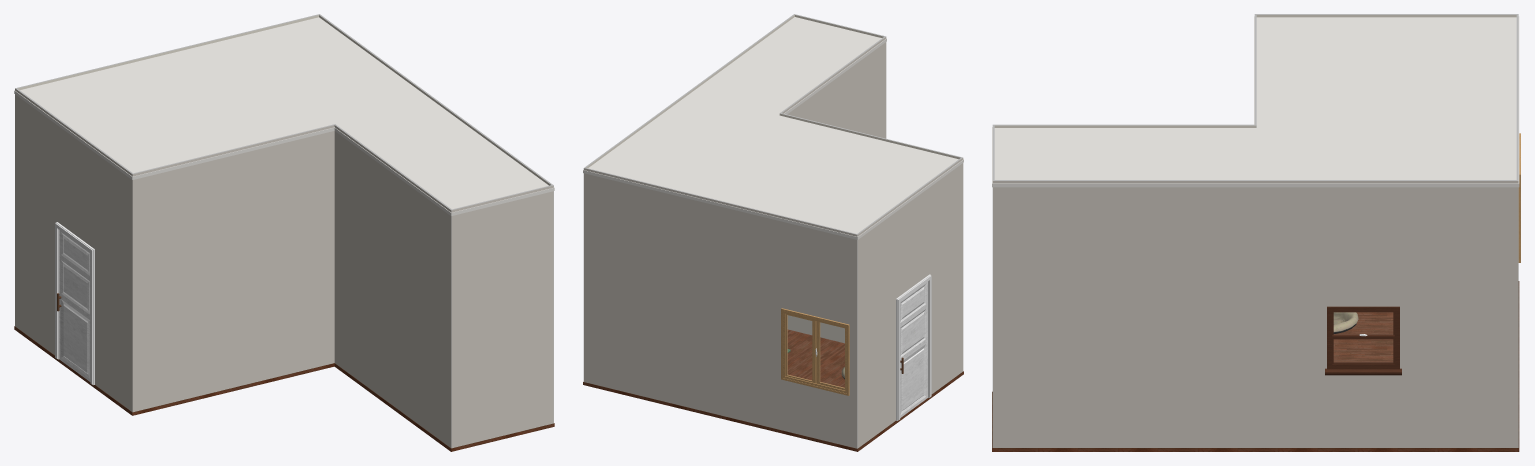
Rendered from ProcTHOR-Train-87.glb.
3 renders of one model, left to right at view 1: azimuth 30°, elevation 25°; view 2: azimuth 150°, elevation 25°; view 3: azimuth 270°, elevation 25°, orthographic. The views are drawn at different scales.
Visible parts, largest first — view 1: WallInside#wall|exterior|1.64|3.28|4.92|3.28, Ceiling#room|2|c, WallInside#wall|exterior|1.64|3.28|1.64|6.55, WallInside#wall|exterior|0.00|6.55|1.64|6.55, WallInside#wall|exterior|4.92|0.00|4.92|3.28, Doorway_8, Floor#room|2|f, WallInside#wall|2|0.00|0.00|4.92|0.00, WallInside#wall|2|0.00|0.00|0.00|6.55, WallInside#wall|exterior|0.00|0.00|0.00|6.55; view 2: WallInside#wall|exterior|0.00|0.00|4.92|0.00, Ceiling#room|2|c, WallInside#wall|exterior|4.92|0.00|4.92|3.28, WallInside#wall|exterior|1.64|3.28|1.64|6.55, Doorway_8, Floor#room|2|f, Window_Slider_48x48, WallInside#wall|2|1.64|3.28|4.92|3.28, WallInside#wall|2|0.00|0.00|0.00|6.55, WallInside#wall|exterior|0.00|0.00|0.00|6.55; view 3: WallInside#wall|exterior|0.00|0.00|0.00|6.55, Ceiling#room|2|c, Floor#room|2|f, Window_Hung_36x32, WallInside#wall|2|4.92|0.00|4.92|3.28, WallInside#wall|2|1.64|3.28|1.64|6.55, WallInside#wall|exterior|0.00|0.00|4.92|0.00, WallInside#wall|2|0.00|0.00|0.00|6.55.
Boxes of the visible parts, x1,y1,x2,y2 form: WallInside#wall|exterior|1.64|3.28|4.92|3.28: (132,124,335,412); Ceiling#room|2|c: (14,17,554,215); WallInside#wall|exterior|1.64|3.28|1.64|6.55: (334,124,451,447); WallInside#wall|exterior|0.00|6.55|1.64|6.55: (451,185,553,448); WallInside#wall|exterior|4.92|0.00|4.92|3.28: (15,88,132,411); Doorway_8: (55,222,94,385); Floor#room|2|f: (14,326,554,451); WallInside#wall|2|0.00|0.00|4.92|0.00: (16,14,318,89); WallInside#wall|2|0.00|0.00|0.00|6.55: (318,14,552,185); WallInside#wall|exterior|0.00|0.00|0.00|6.55: (319,14,553,422); WallInside#wall|exterior|0.00|0.00|4.92|0.00: (584,168,857,448); Ceiling#room|2|c: (583,17,963,239); WallInside#wall|exterior|4.92|0.00|4.92|3.28: (857,157,963,448); WallInside#wall|exterior|1.64|3.28|1.64|6.55: (780,37,886,138); Doorway_8: (896,274,931,420); Floor#room|2|f: (583,329,963,451); Window_Slider_48x48: (781,308,849,395); WallInside#wall|2|1.64|3.28|4.92|3.28: (779,113,962,343); WallInside#wall|2|0.00|0.00|0.00|6.55: (585,14,794,168); WallInside#wall|exterior|0.00|0.00|0.00|6.55: (583,14,793,381); WallInside#wall|exterior|0.00|0.00|0.00|6.55: (993,180,1518,447); Ceiling#room|2|c: (992,16,1519,187); Floor#room|2|f: (992,281,1519,451); Window_Hung_36x32: (1325,306,1401,375); WallInside#wall|2|4.92|0.00|4.92|3.28: (1255,14,1518,17); WallInside#wall|2|1.64|3.28|1.64|6.55: (993,125,1256,127); WallInside#wall|exterior|0.00|0.00|4.92|0.00: (1517,14,1518,447); WallInside#wall|2|0.00|0.00|0.00|6.55: (993,180,1517,180).
Size of the model in its own units: 5.12 by 3.74 by 6.62.
Materials: 77 (21 with a texture image).
